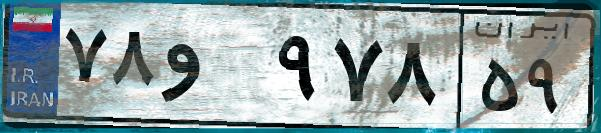5: (475, 38, 525, 113)
7: (330, 28, 385, 110), (57, 26, 110, 100)
8: (385, 28, 445, 110), (110, 28, 158, 98)
9: (270, 28, 330, 110), (525, 38, 570, 115)
و: (158, 20, 270, 120)
